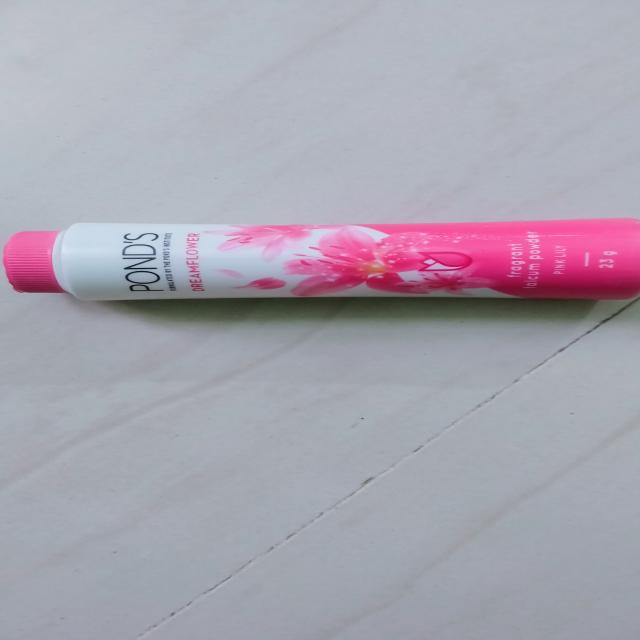powder: (0, 224, 640, 301)
